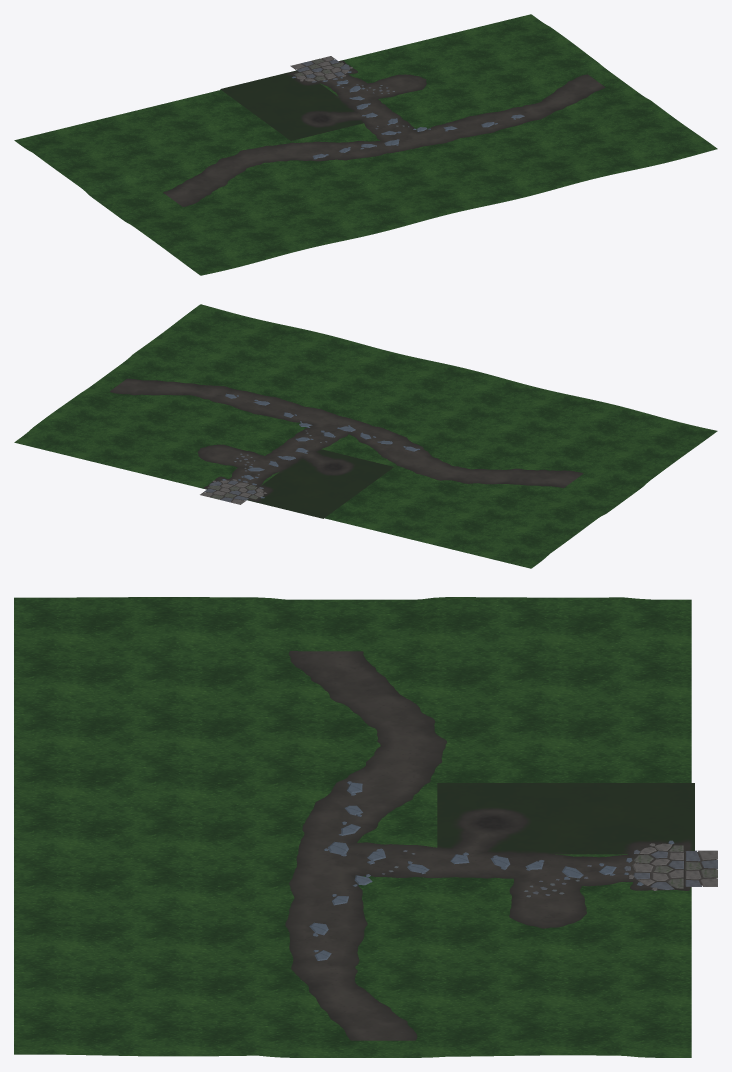
Rendered from OutskirtsGround.fbx.
The picture shows the model from 3 angles, top to bottom: view 1: azimuth 30°, elevation 25°; view 2: azimuth 150°, elevation 25°; view 3: azimuth 270°, elevation 25°; orthographic projection. The views are drawn at different scales.
Parts seen in each view (by area): view 1: Ground_GrassMeadow, Ground_Path_NW, Ground_Path_WestWing, Ground_Path_NE, Ground_Path_SE, Ground_Path_EastWing, Ground_Stonework, Ground_Path_SW; view 2: Ground_GrassMeadow, Ground_Path_NW, Ground_Path_WestWing, Ground_Path_NE, Ground_Path_SE, Ground_Path_EastWing, Ground_Stonework, Ground_Path_SW; view 3: Ground_GrassMeadow, Ground_Path_NW, Ground_Path_WestWing, Ground_Path_NE, Ground_Path_SE, Ground_Path_EastWing, Ground_Stonework, Ground_Path_SW.
Part boxes in pixels (x1,y1,x2,y2): Ground_GrassMeadow: [14, 14, 717, 275]; Ground_Path_NW: [220, 70, 371, 140]; Ground_Path_WestWing: [163, 142, 317, 206]; Ground_Path_NE: [304, 60, 426, 120]; Ground_Path_SE: [372, 114, 502, 149]; Ground_Path_EastWing: [483, 74, 605, 128]; Ground_Stonework: [290, 56, 524, 159]; Ground_Path_SW: [294, 121, 409, 161]; Ground_GrassMeadow: [14, 304, 717, 568]; Ground_Path_NW: [245, 447, 393, 518]; Ground_Path_WestWing: [397, 446, 583, 488]; Ground_Path_NE: [197, 441, 312, 496]; Ground_Path_SE: [243, 395, 351, 447]; Ground_Path_EastWing: [110, 378, 263, 410]; Ground_Stonework: [200, 393, 419, 504]; Ground_Path_SW: [314, 419, 421, 464]; Ground_GrassMeadow: [14, 597, 691, 1057]; Ground_Path_NW: [437, 783, 694, 854]; Ground_Path_WestWing: [288, 651, 446, 782]; Ground_Path_NE: [437, 854, 690, 928]; Ground_Path_SE: [285, 854, 437, 934]; Ground_Path_EastWing: [289, 934, 417, 1040]; Ground_Stonework: [309, 781, 717, 960]; Ground_Path_SW: [298, 783, 437, 854].
Size of the model in its own units: 160 by 0.658 by 104.
8 materials, 8 textured.
